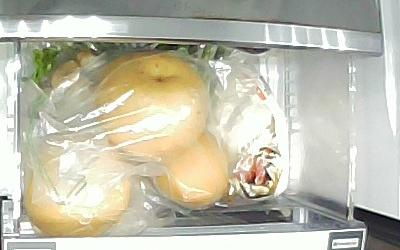pear_vinyl: (96, 52, 210, 164), (25, 143, 132, 237), (151, 133, 226, 205)
